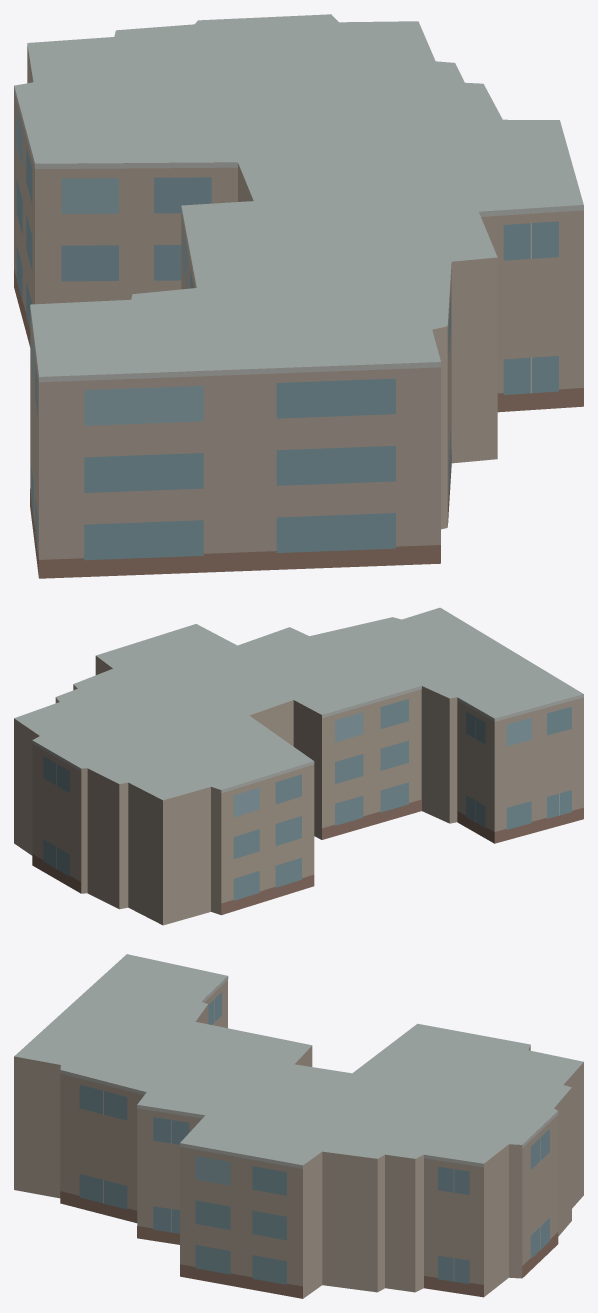
Rendered from survey-upis-32481967.glb.
The picture shows the model from 3 angles, top to bottom: view 1: azimuth 30°, elevation 25°; view 2: azimuth 150°, elevation 25°; view 3: azimuth 270°, elevation 25°; orthographic projection. The views are drawn at different scales.
Parts seen in each view (by area): view 1: survey-upis-32481967.tmp; view 2: survey-upis-32481967.tmp; view 3: survey-upis-32481967.tmp.
Part boxes in pixels (left/top/right/bottom): survey-upis-32481967.tmp: left=14, top=14, right=583, bottom=578; survey-upis-32481967.tmp: left=14, top=607, right=583, bottom=925; survey-upis-32481967.tmp: left=14, top=954, right=583, bottom=1298.
Size of the model in its own units: 31.05 by 9.15 by 35.39.
